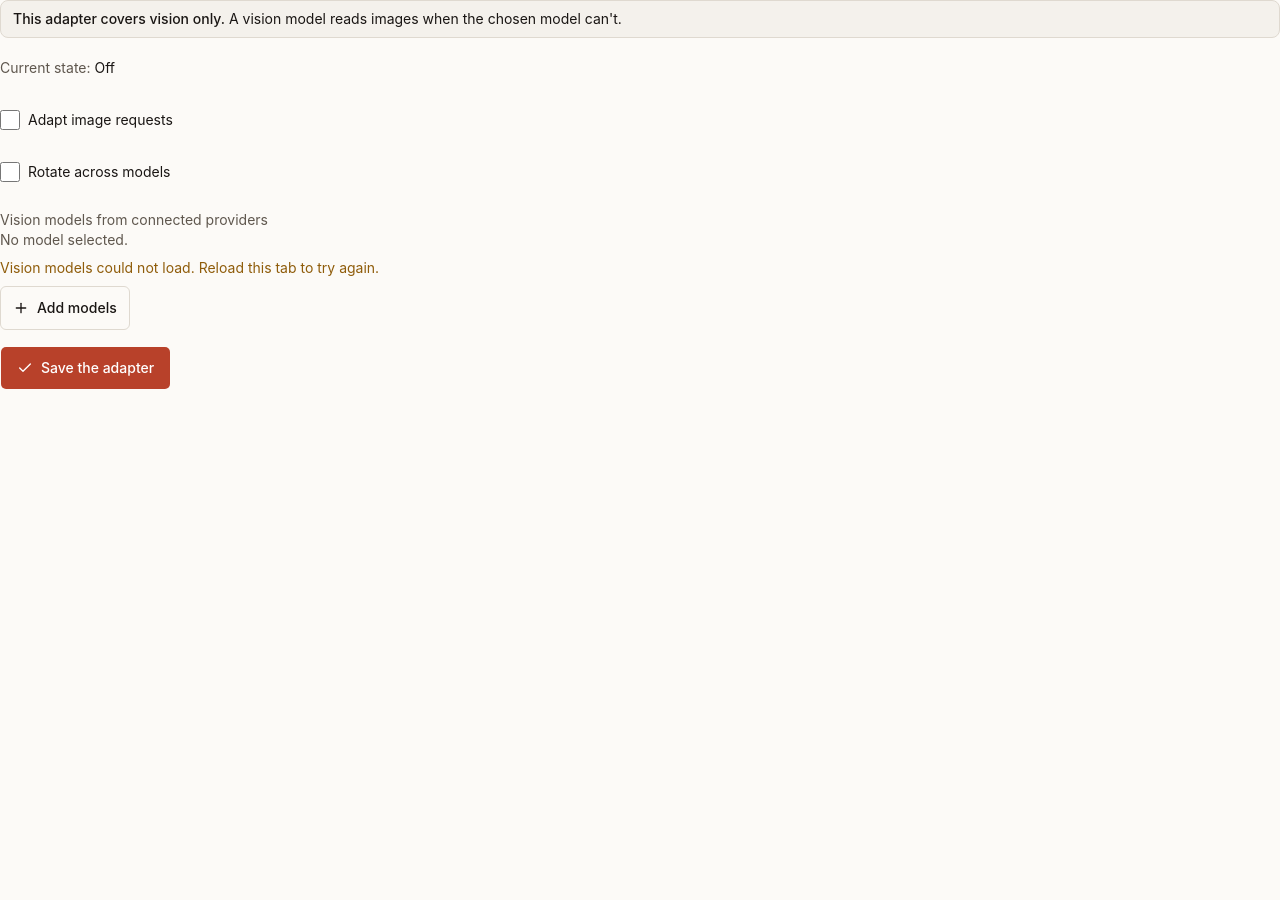
Test: the vision adapter picker › reports a failed vision-model read inline and in the dialog
Expected: the text "Vision models could not load. Reload this tab to try again." is shown, top-left (0, 259), bottom-right (379, 276)
What coordinates should you click on to do the following:
click the button "Add models"
I would click on:
 (65, 308)
Its box is top-left (0, 286), bottom-right (130, 330).
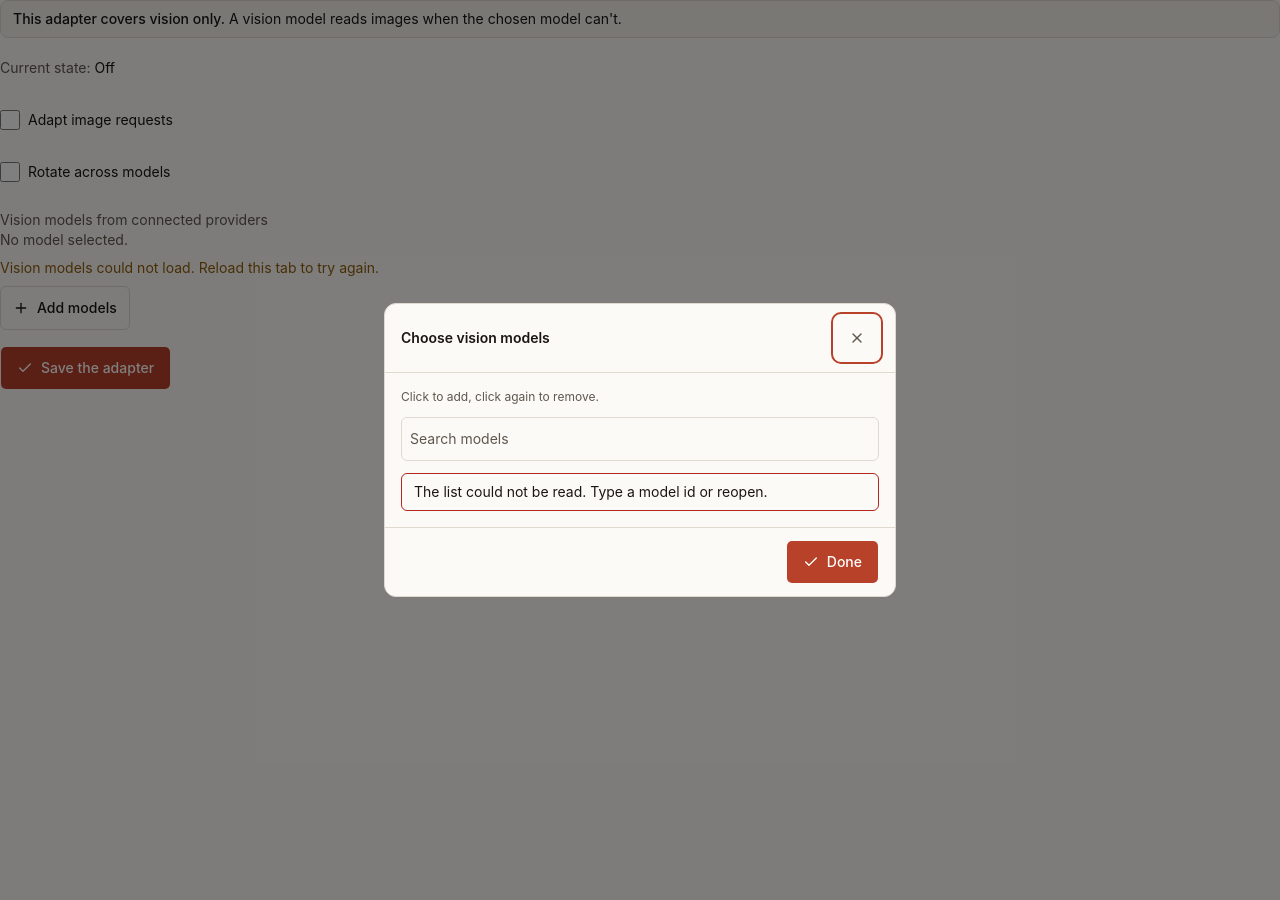
Expected: the message shows "could not be read", top-left (414, 483), bottom-right (768, 500)
